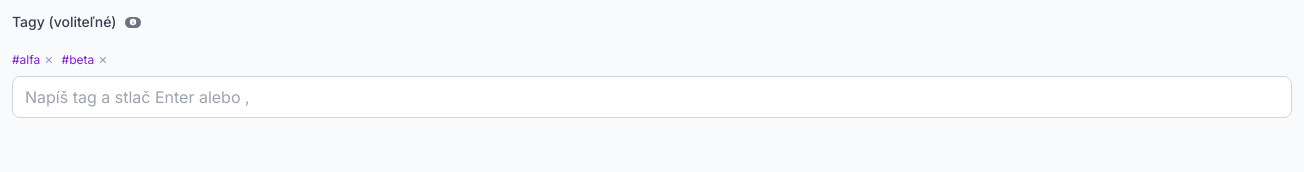
Scenario: TagsSection – synchronizácia s hodnotou od rodiča › po oneskorenom príchode tagov odstránenie jedného pošle rodičovi ostatné
What coordinates should you click on to do the following:
click the button named "Odstrániť tag alfa"
I would click on:
 (49, 58)
Its box is [44,40,54,76].
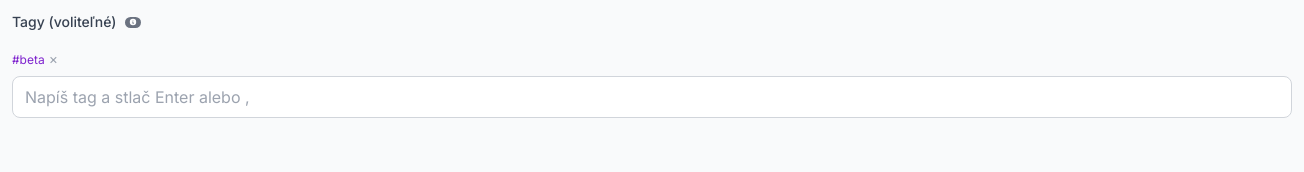
Check: the text "#alfa" is gone
